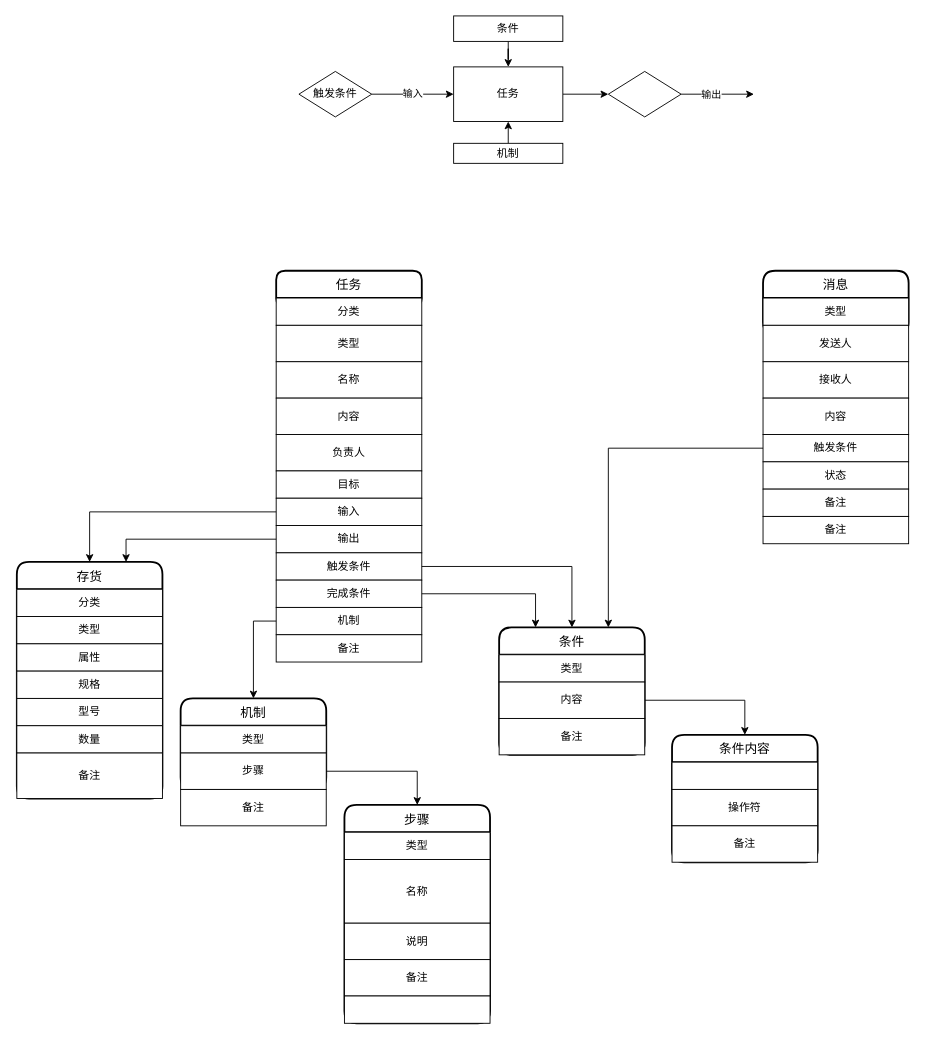
This 925x1040 diagram has some shape labels left out. Each missing label, with the centre of its shape:
形式: the point at 644,94
操作数: the point at 744,775
